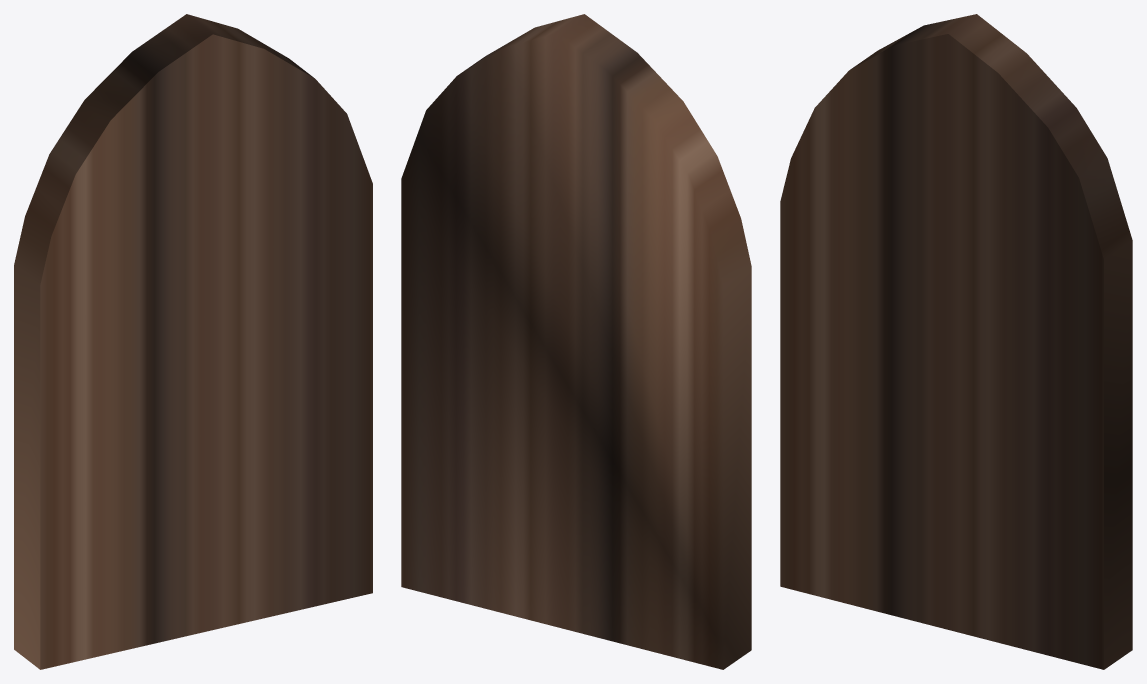
The model's file is door.fbx.
The picture shows the model from 3 angles, left to right: view 1: azimuth 30°, elevation 25°; view 2: azimuth 150°, elevation 25°; view 3: azimuth 330°, elevation 25°; orthographic projection.
Parts seen in each view (by area): view 1: church_asset.003; view 2: church_asset.003; view 3: church_asset.003.
Part boxes in pixels (x1=…): church_asset.003: x1=14, y1=14, x2=372, y2=669; church_asset.003: x1=401, y1=14, x2=751, y2=669; church_asset.003: x1=780, y1=14, x2=1132, y2=669.
Size of the model in its own units: 1034 by 1789 by 173.
